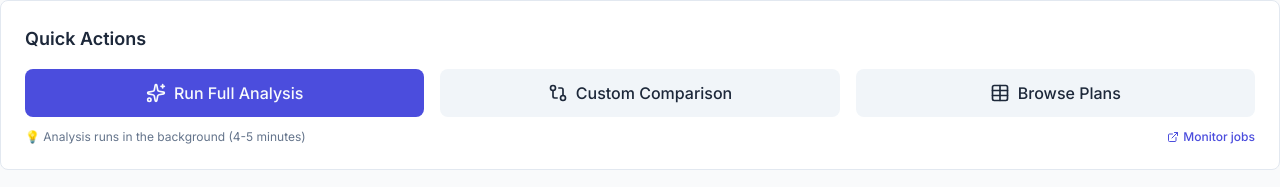
QuickActions Component › should show loading state during analysis
The width and height of the screenshot is (1280, 187).
Step 1. Click the button "Run Full Analysis" → (225, 93), box [25, 69, 424, 117]
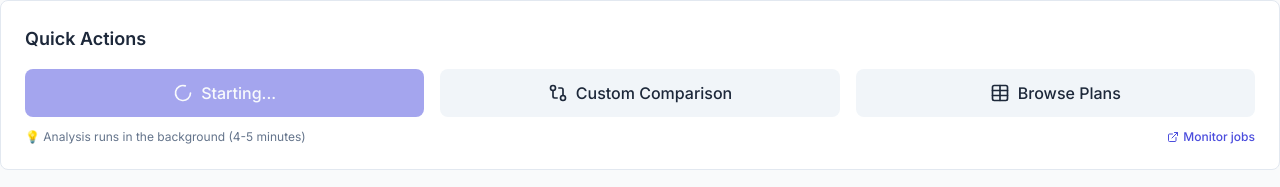
Expected: the button "Starting..." is disabled, [25, 69, 424, 117]
